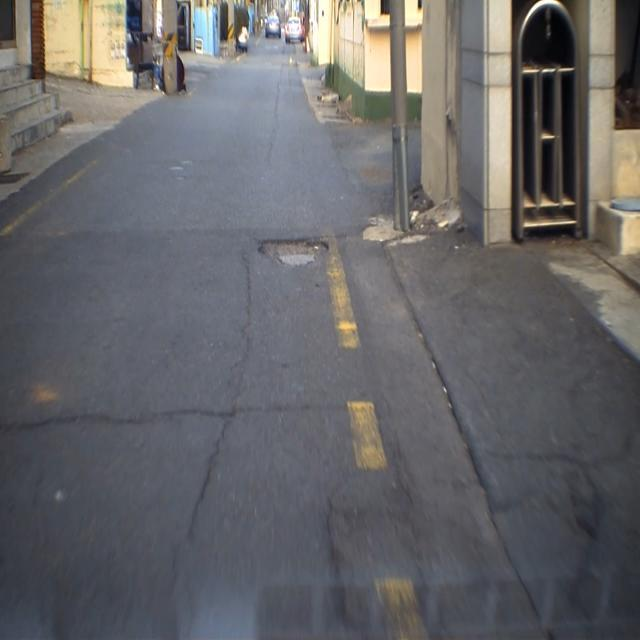Buraco: (254, 235, 332, 272)
